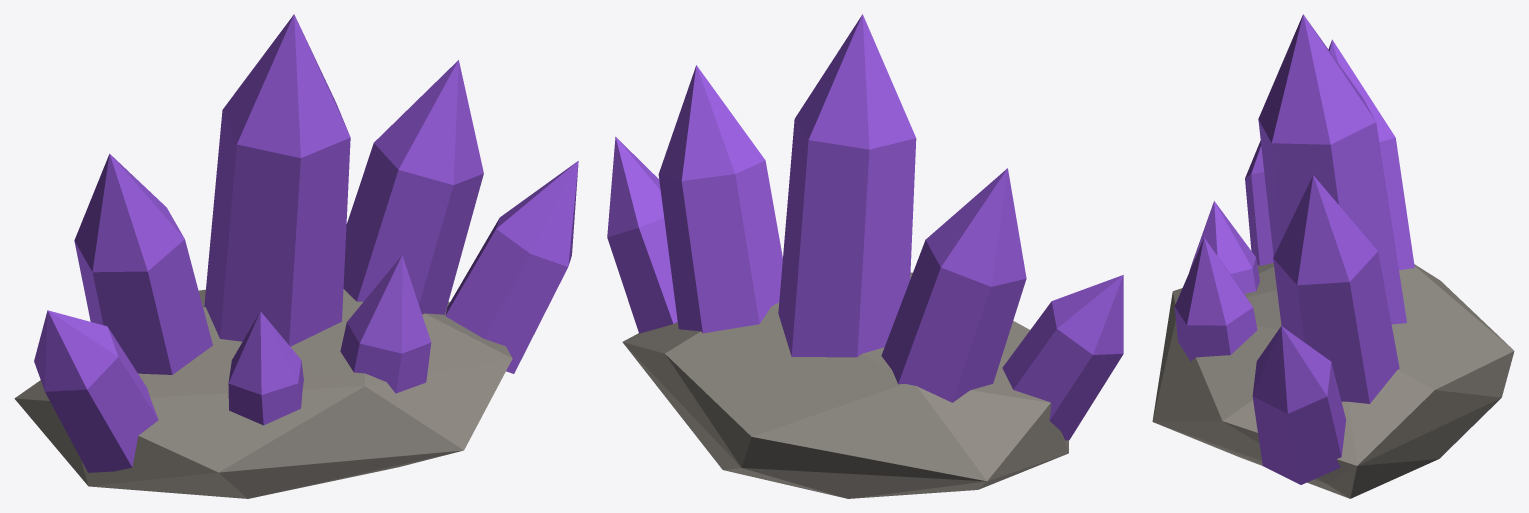
Rendered from Lodge_CrystalCluster_Violet.fbx.
The picture shows the model from 3 angles, left to right: view 1: azimuth 30°, elevation 25°; view 2: azimuth 150°, elevation 25°; view 3: azimuth 270°, elevation 25°; orthographic projection. The views are drawn at different scales.
Parts seen in each view (by area): view 1: Crystal1, Base, Crystal2; view 2: Crystal1, Base, Crystal2; view 3: Crystal1, Base, Crystal2.
Part boxes in pixels (x1,y1,x2,y2): Crystal1: (204, 14, 578, 425); Base: (14, 289, 512, 498); Crystal2: (34, 153, 431, 472); Crystal1: (607, 14, 916, 357); Base: (622, 272, 1068, 498); Crystal2: (881, 168, 1123, 440); Crystal1: (1189, 14, 1406, 484); Base: (1152, 263, 1514, 498); Crystal2: (1174, 39, 1414, 361).
Bounding box in the file's own units: 1.69 × 1.34 × 1.07.
